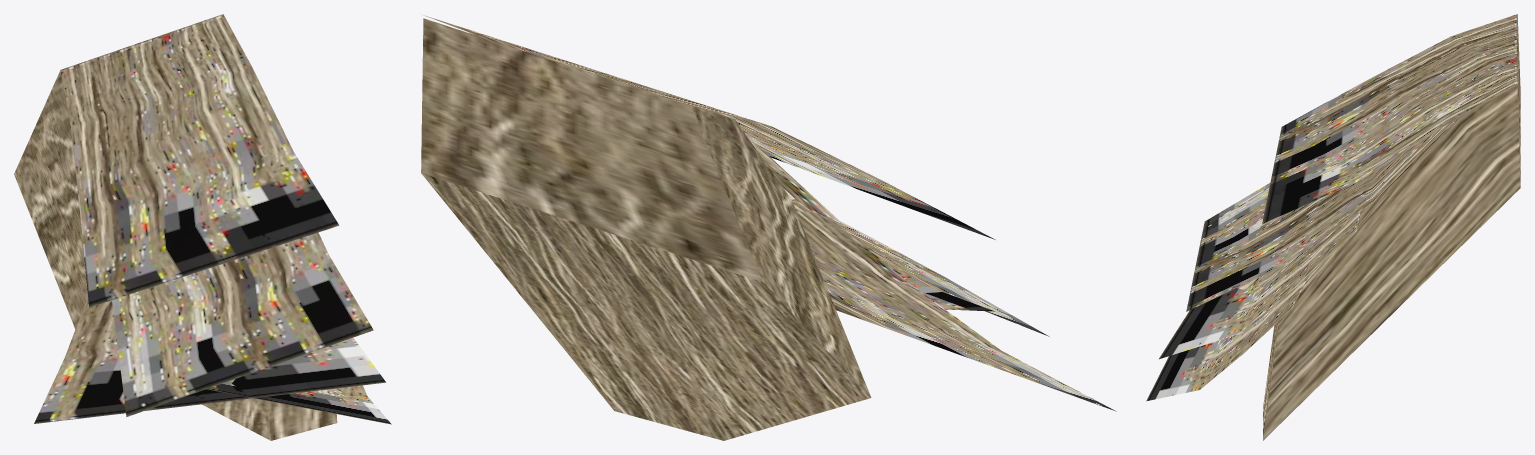
The model's file is roof.twig.top.line.end.left.glb.
3 renders of one model, left to right at view 1: azimuth 30°, elevation 25°; view 2: azimuth 150°, elevation 25°; view 3: azimuth 270°, elevation 25°, orthographic. The views are drawn at different scales.
Visible parts, largest first — view 1: LOD0; view 2: LOD0; view 3: LOD0.
Part boxes in pixels (x1,y1,x2,y2): LOD0: (14, 14, 391, 440); LOD0: (421, 15, 1116, 440); LOD0: (1146, 14, 1520, 440).
Size of the model in its own units: 1.19 by 1.21 by 1.14.
1 material, 1 textured.
